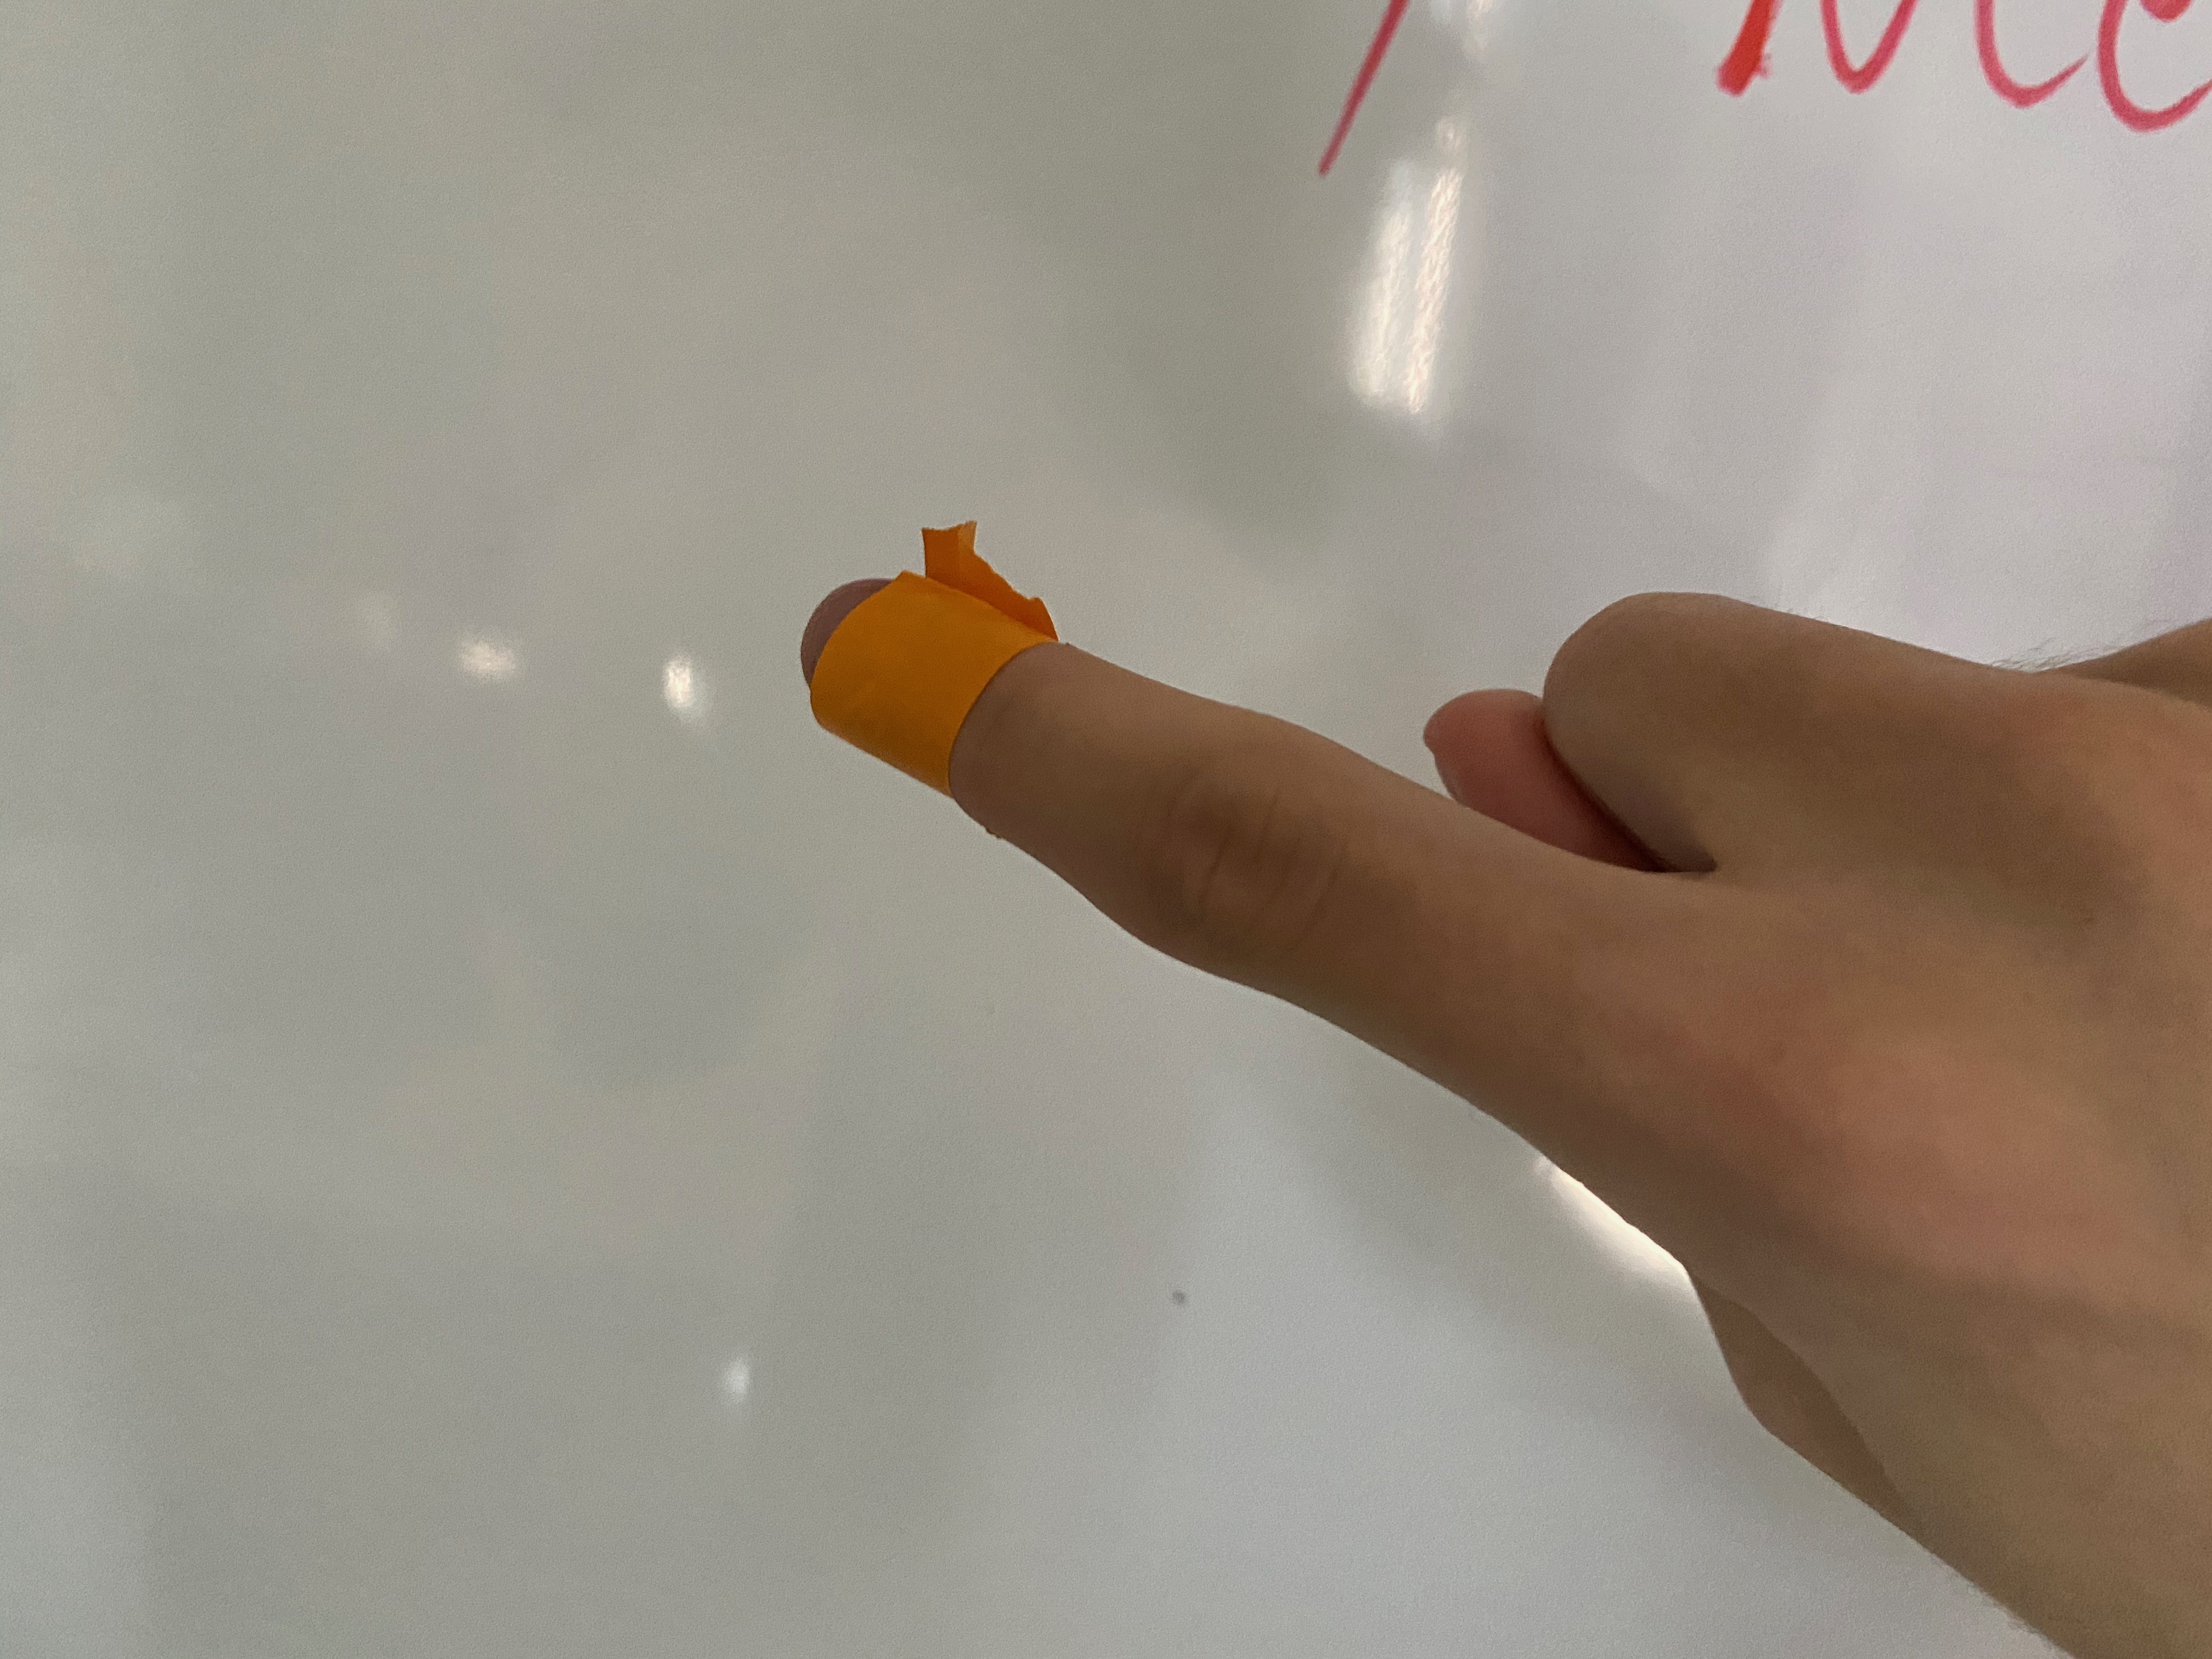fingertip: (735, 542, 1082, 840)
